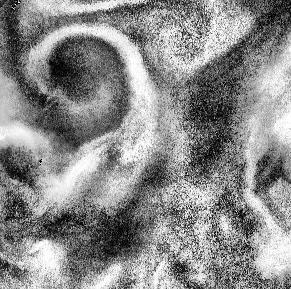CE: (25, 17, 147, 121)
